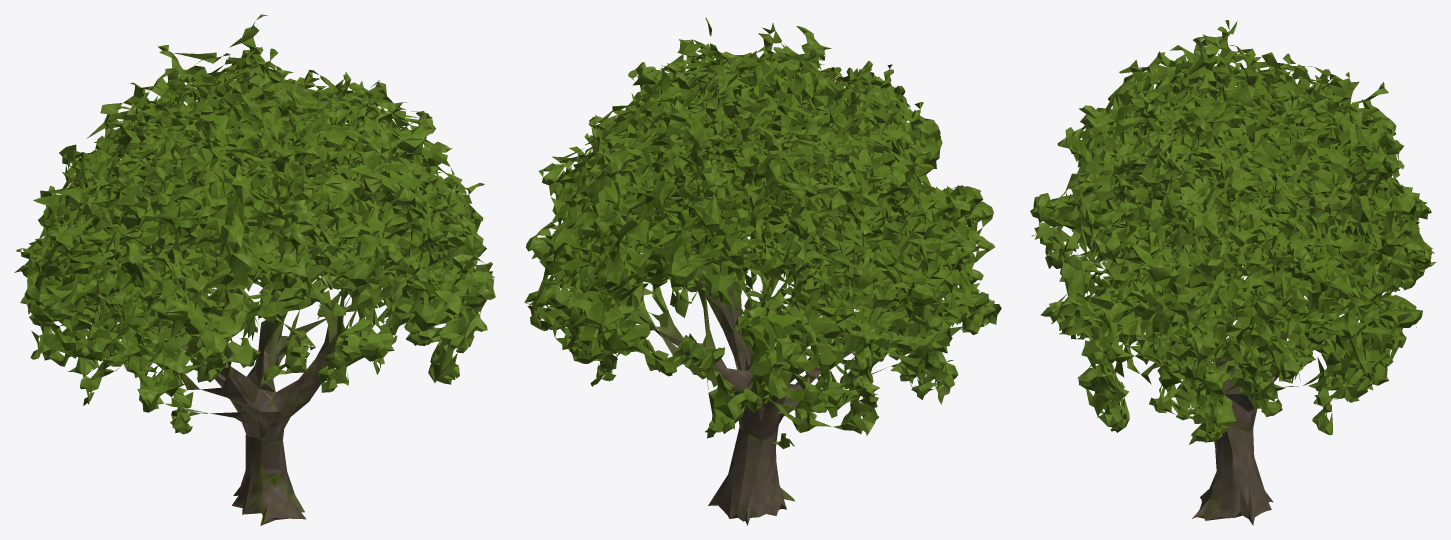
Rendered from e4mangohd.glb.
The picture shows the model from 3 angles, left to right: view 1: azimuth 30°, elevation 25°; view 2: azimuth 150°, elevation 25°; view 3: azimuth 270°, elevation 25°; orthographic projection. The views are drawn at different scales.
Visible parts, largest first — view 1: output_unwrapped; view 2: output_unwrapped; view 3: output_unwrapped.
Boxes of the visible parts, <box> form: output_unwrapped: <box>14,14,495,525</box>; output_unwrapped: <box>524,17,1001,525</box>; output_unwrapped: <box>1030,20,1436,525</box>.
Size of the model in its own units: 0.9771 by 1 by 0.8036.
Materials: 1 (1 with a texture image).
